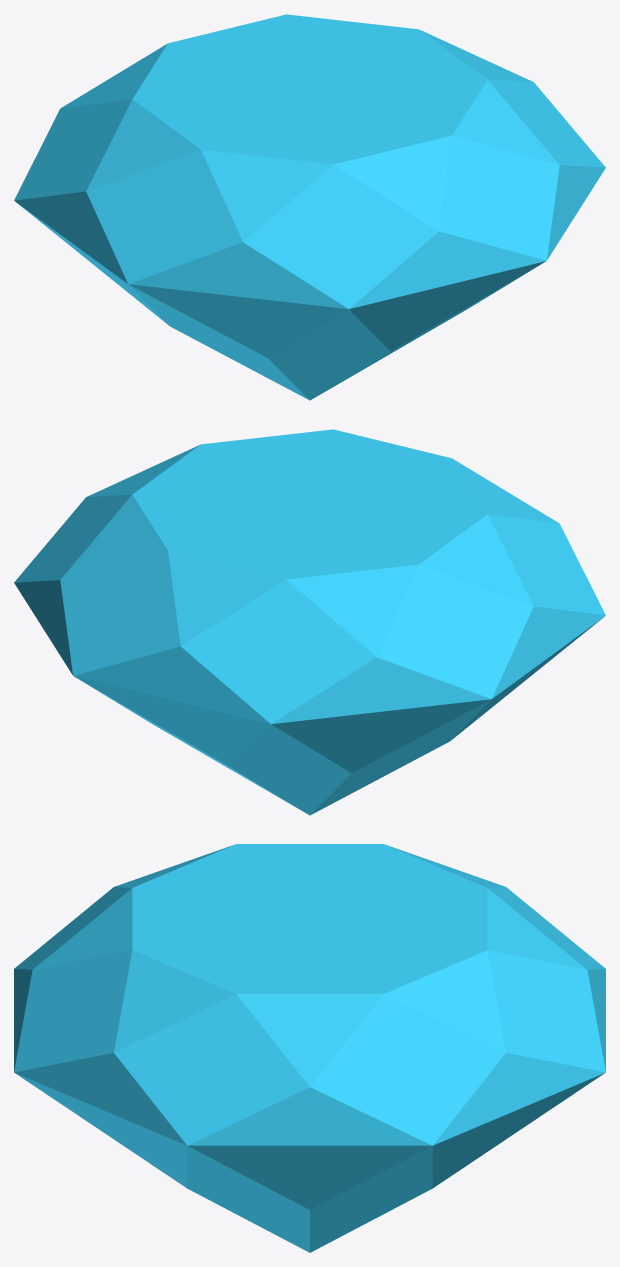
Rendered from round.glb.
3 views of the same model, one above another, from view 1: azimuth 30°, elevation 25°; view 2: azimuth 150°, elevation 25°; view 3: azimuth 270°, elevation 25° (orthographic). The views are drawn at different scales.
Visible parts, largest first — view 1: Object_152; view 2: Object_152; view 3: Object_152.
Part boxes in pixels (box(x1,y1,x2,y2)): Object_152: box(14, 14, 605, 400); Object_152: box(14, 429, 605, 815); Object_152: box(14, 844, 605, 1252).
Size of the model in its own units: 1.85 by 1.15 by 1.85.
